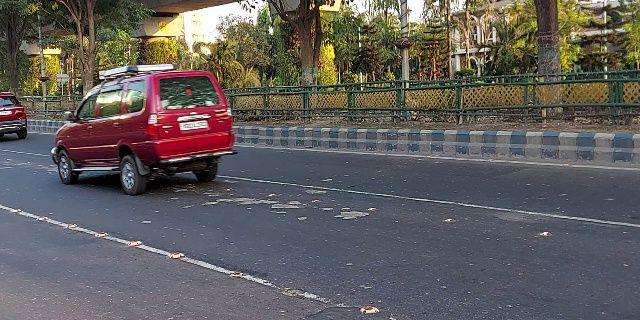Car: (44, 63, 237, 190), (1, 90, 33, 144)
